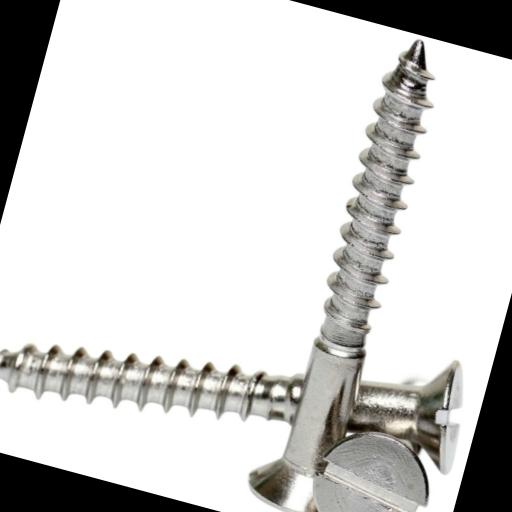Slotted: (306, 418, 441, 512)
